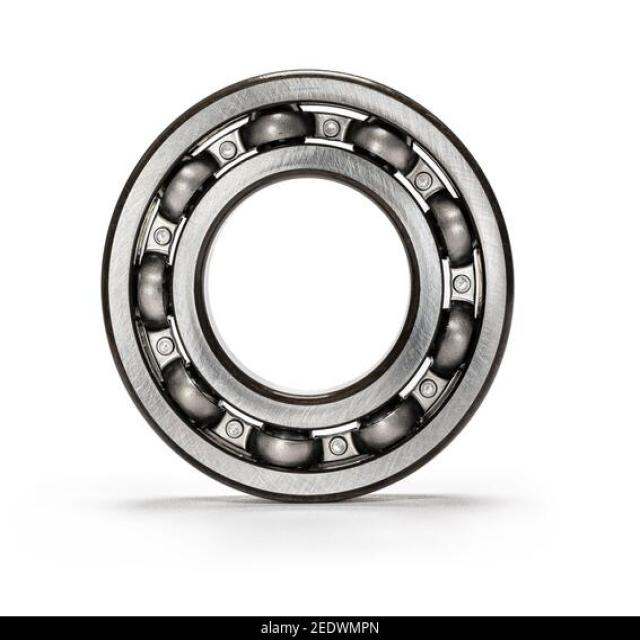Bearing: (83, 63, 527, 511)
